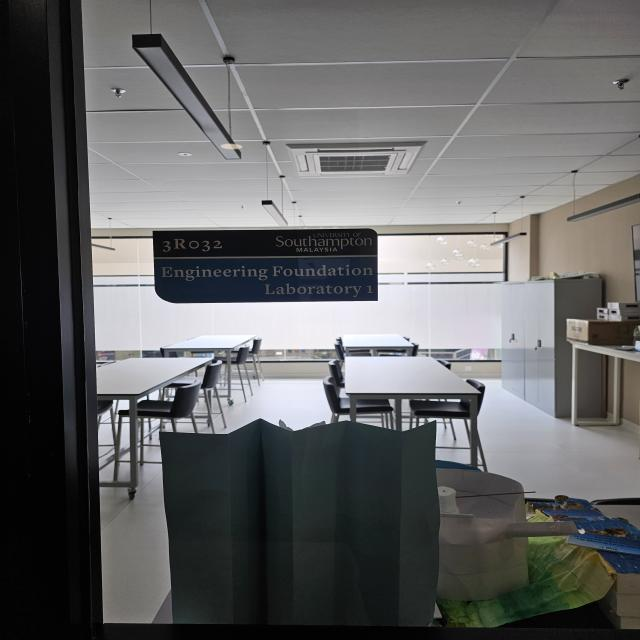obstacle: (147, 225, 385, 306)
